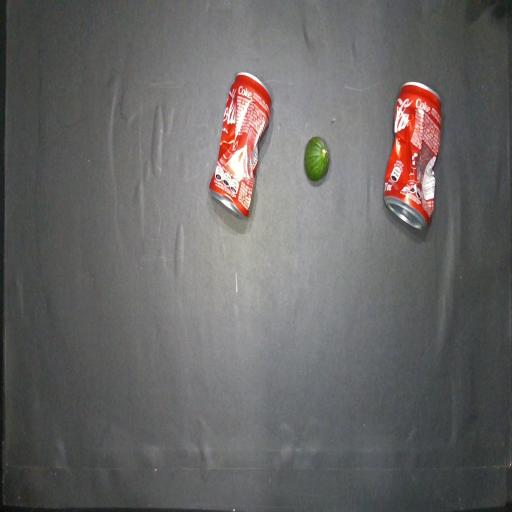higo: (304, 137, 330, 181)
lata_defectuoso: (210, 73, 271, 217), (384, 82, 442, 229)
